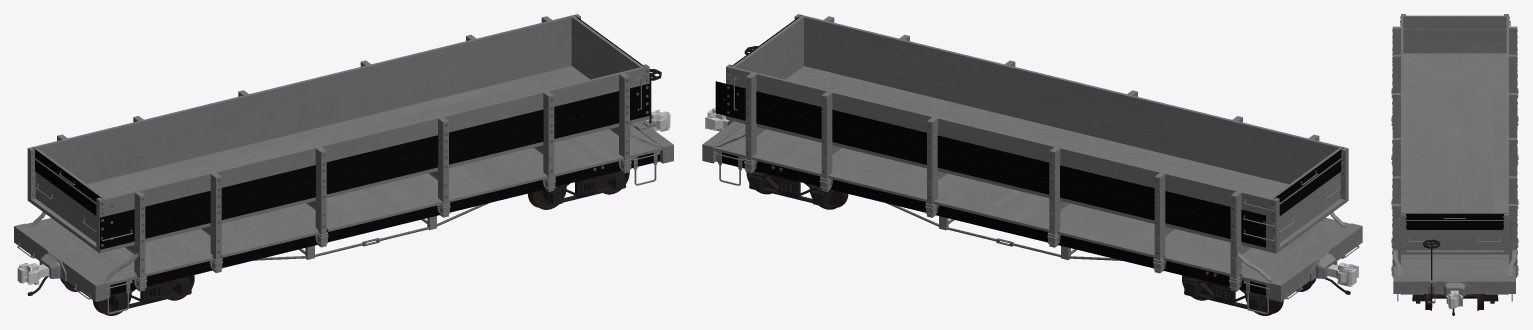
Rendered from drgw_rail_and_tie_outfit.obj.
The picture shows the model from 3 angles, left to right: view 1: azimuth 30°, elevation 25°; view 2: azimuth 150°, elevation 25°; view 3: azimuth 270°, elevation 25°; orthographic projection. The views are drawn at different scales.
Parts seen in each view (by area): view 1: FRAME.010_FRAME_Cube.040, FRAME.002_FRAME_Cube.001, SHELL_Cylinder, FRAME_FRAME_Cube.060, BOGEY_REAR_BOGEY_REAR_Cube.016, BOGEY_FRONT_BOGEY_FRONT_Cube.003, FRAME.022_FRAME_Cube.032, SHELL.001_Cube.001, Cylinder.014_Cylinder.027, Coupler_Front_Coupler_Front_Cube.000; view 2: FRAME.010_FRAME_Cube.040, FRAME.002_FRAME_Cube.001, SHELL_Cylinder, FRAME_FRAME_Cube.060, BOGEY_REAR_BOGEY_REAR_Cube.016, BOGEY_FRONT_BOGEY_FRONT_Cube.003, FRAME.022_FRAME_Cube.032, SHELL.001_Cube.001, Cylinder.014_Cylinder.027, Coupler_Front_Coupler_Front_Cube.000; view 3: FRAME.010_FRAME_Cube.040, SHELL_Cylinder, FRAME_FRAME_Cube.060, FRAME.002_FRAME_Cube.001, BOGEY_REAR_WHEEL_2_BOGEY_REAR_WHEEL_2_Cube.022, Cube.189_Cube.215, Cylinder.014_Cylinder.027, Coupler_Rear_Coupler_Front.001_Cube.101, FRAME.022_FRAME_Cube.032, BOGEY_REAR_BOGEY_REAR_Cube.016, SHELL.001_Cube.000_SHELL.001_Cube.002, SHELL.001_Cube.001 (+1 smaller).
Part boxes in pixels (left/top/right/bottom): FRAME.010_FRAME_Cube.040: left=27, top=14, right=659, bottom=291; FRAME.002_FRAME_Cube.001: left=33, top=15, right=659, bottom=295; SHELL_Cylinder: left=26, top=124, right=662, bottom=285; FRAME_FRAME_Cube.060: left=14, top=120, right=673, bottom=301; BOGEY_REAR_BOGEY_REAR_Cube.016: left=543, top=171, right=626, bottom=205; BOGEY_FRONT_BOGEY_FRONT_Cube.003: left=109, top=276, right=191, bottom=311; FRAME.022_FRAME_Cube.032: left=134, top=158, right=631, bottom=289; SHELL.001_Cube.001: left=17, top=151, right=659, bottom=314; Cylinder.014_Cylinder.027: left=32, top=69, right=648, bottom=272; Coupler_Front_Coupler_Front_Cube.000: left=17, top=262, right=49, bottom=285; FRAME.010_FRAME_Cube.040: left=715, top=14, right=1348, bottom=291; FRAME.002_FRAME_Cube.001: left=715, top=15, right=1343, bottom=295; SHELL_Cylinder: left=713, top=124, right=1350, bottom=285; FRAME_FRAME_Cube.060: left=702, top=120, right=1362, bottom=301; BOGEY_REAR_BOGEY_REAR_Cube.016: left=749, top=171, right=831, bottom=206; BOGEY_FRONT_BOGEY_FRONT_Cube.003: left=1184, top=277, right=1266, bottom=311; FRAME.022_FRAME_Cube.032: left=744, top=158, right=1242, bottom=289; SHELL.001_Cube.001: left=715, top=151, right=1359, bottom=314; Cylinder.014_Cylinder.027: left=727, top=69, right=1343, bottom=272; Coupler_Front_Coupler_Front_Cube.000: left=1327, top=262, right=1358, bottom=286; FRAME.010_FRAME_Cube.040: left=1392, top=14, right=1517, bottom=277; SHELL_Cylinder: left=1393, top=254, right=1515, bottom=277; FRAME_FRAME_Cube.060: left=1393, top=277, right=1515, bottom=297; FRAME.002_FRAME_Cube.001: left=1402, top=213, right=1507, bottom=229; BOGEY_REAR_WHEEL_2_BOGEY_REAR_WHEEL_2_Cube.022: left=1425, top=294, right=1483, bottom=310; Cube.189_Cube.215: left=1423, top=239, right=1440, bottom=307; Cylinder.014_Cylinder.027: left=1392, top=16, right=1517, bottom=262; Coupler_Rear_Coupler_Front.001_Cube.101: left=1446, top=290, right=1462, bottom=309; FRAME.022_FRAME_Cube.032: left=1391, top=88, right=1518, bottom=275; BOGEY_REAR_BOGEY_REAR_Cube.016: left=1412, top=294, right=1498, bottom=303; SHELL.001_Cube.000_SHELL.001_Cube.002: left=1399, top=19, right=1510, bottom=241; SHELL.001_Cube.001: left=1397, top=291, right=1512, bottom=301.
Size of the model in its own units: 31.59 by 6.35 by 7.18.
